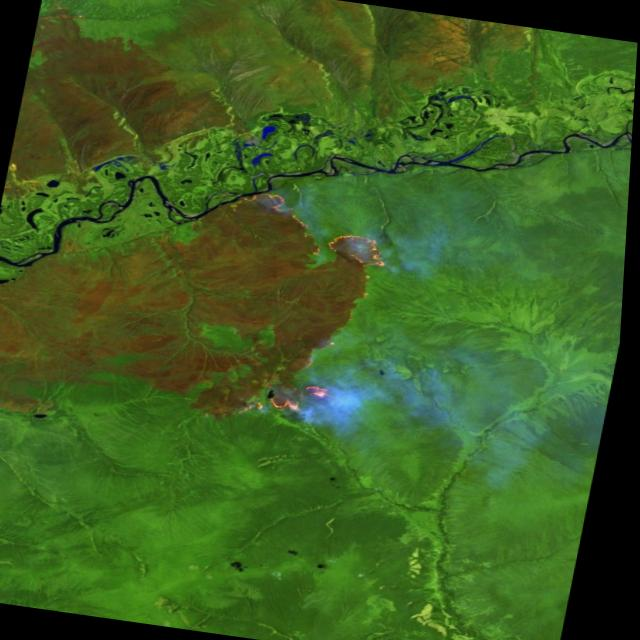fire: (186, 185, 396, 432)
